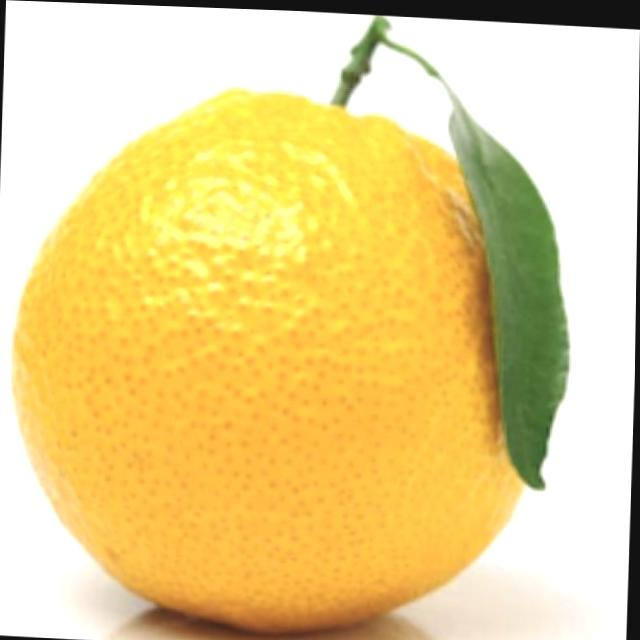Orange: (3, 71, 546, 640)
